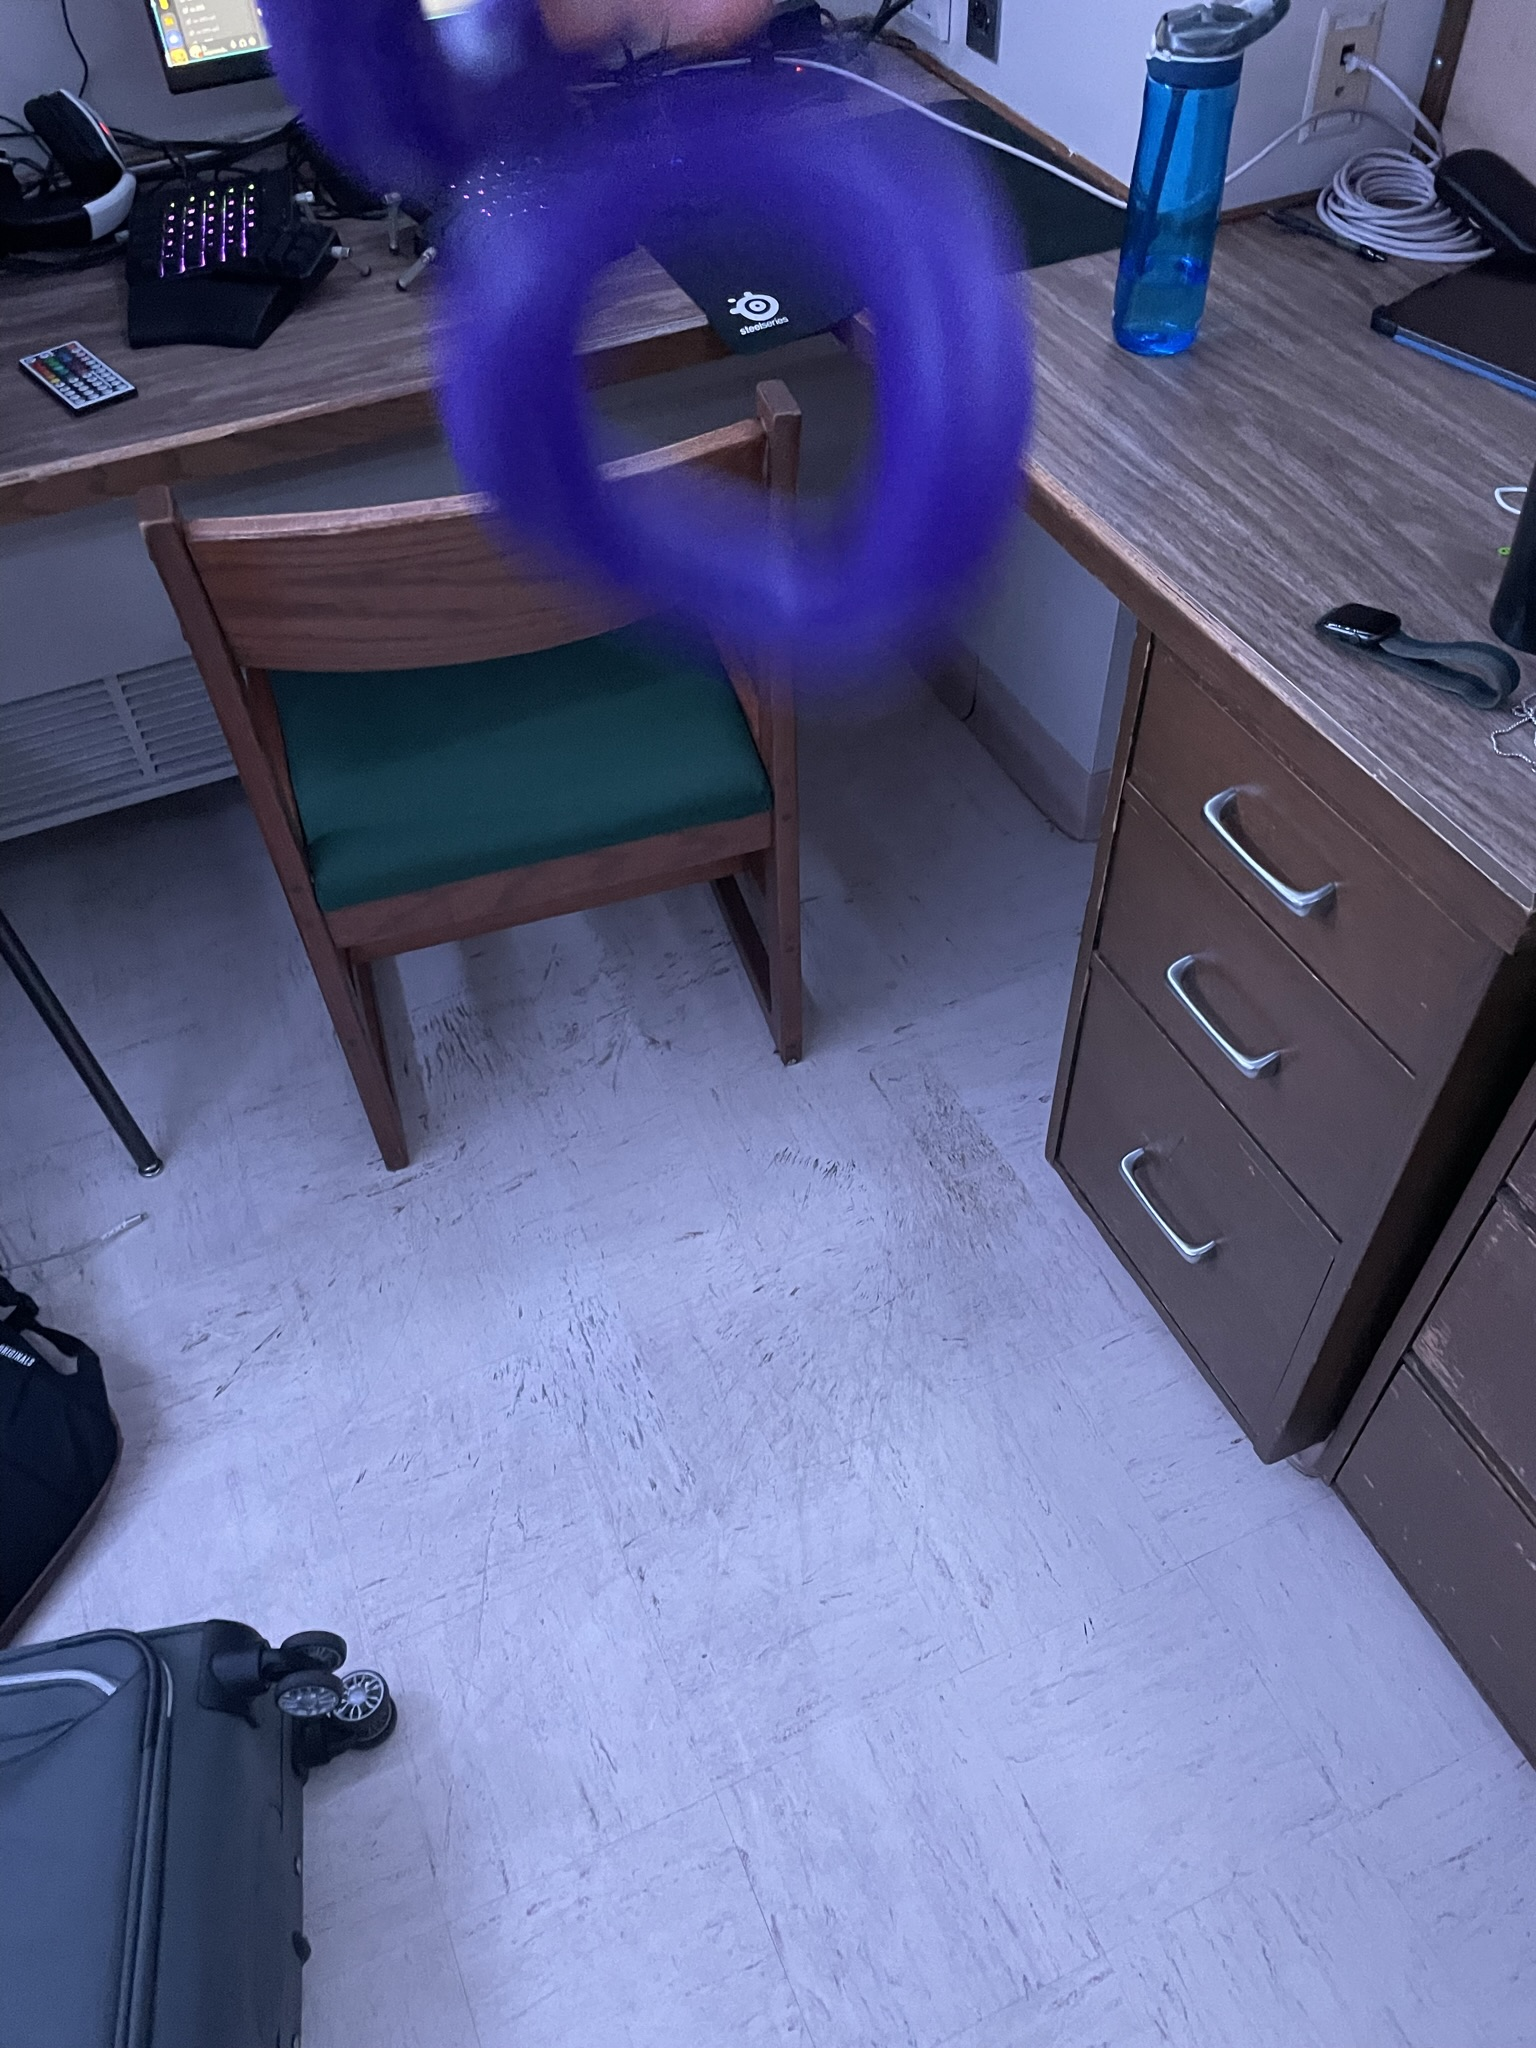ring: (428, 74, 1046, 684), (227, 2, 829, 214)
